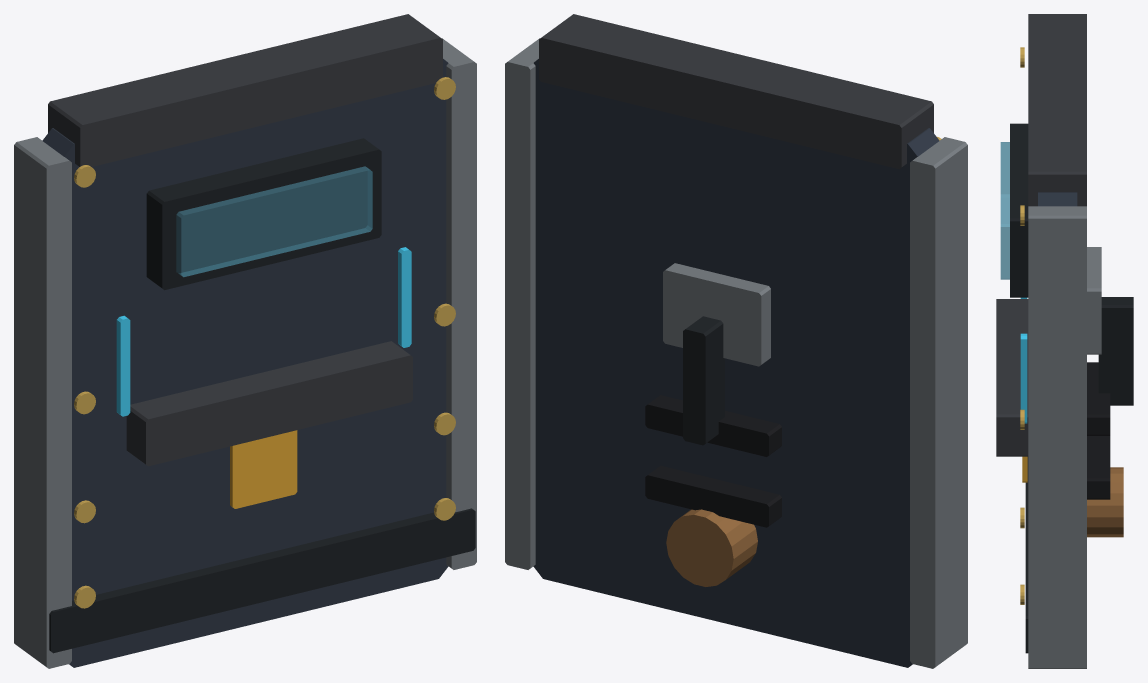
The model's file is 08_Aegis_Shield_Assembled.obj.
The picture shows the model from 3 angles, left to right: view 1: azimuth 30°, elevation 25°; view 2: azimuth 150°, elevation 25°; view 3: azimuth 270°, elevation 25°; orthographic projection. The views are drawn at different scales.
Visible parts, largest first — view 1: 000_Armored_Plate, 002_RimLeft, 004_TopArmor, 005_Viewing_Slit_Frame, 001_Forward_Bumper, 007_Power_Armor_Reinforcement, 003_RimRight, 006_BulletResistant_Viewport, 008_Seal_Insignia, 022_PowerIndicator_-1, 023_PowerIndicator_1; view 2: 000_Armored_Plate, 002_RimLeft, 004_TopArmor, 003_RimRight, 020_Pressure_Lock, 021_Power_Unit, 019_Rear_Handle, 017_Rear_ArmStrap_0.48, 018_Rear_ArmStrap_0.72; view 3: 003_RimRight, 004_TopArmor, 007_Power_Armor_Reinforcement, 019_Rear_Handle, 005_Viewing_Slit_Frame, 021_Power_Unit, 020_Pressure_Lock, 017_Rear_ArmStrap_0.48, 018_Rear_ArmStrap_0.72, 006_BulletResistant_Viewport, 001_Forward_Bumper, 023_PowerIndicator_1 (+1 smaller).
Part boxes in pixels (x1,y1,x2,y2): 000_Armored_Plate: [42, 59, 448, 667]; 002_RimLeft: [14, 137, 71, 668]; 004_TopArmor: [48, 14, 442, 166]; 005_Viewing_Slit_Frame: [146, 138, 381, 290]; 001_Forward_Bumper: [49, 508, 475, 653]; 007_Power_Armor_Reinforcement: [126, 341, 412, 466]; 003_RimRight: [442, 38, 476, 569]; 006_BulletResistant_Viewport: [176, 166, 372, 277]; 008_Seal_Insignia: [230, 430, 297, 508]; 022_PowerIndicator_-1: [116, 315, 130, 416]; 023_PowerIndicator_1: [398, 247, 411, 347]; 000_Armored_Plate: [533, 59, 939, 667]; 002_RimLeft: [910, 137, 967, 668]; 004_TopArmor: [539, 14, 933, 169]; 003_RimRight: [505, 38, 539, 569]; 020_Pressure_Lock: [663, 263, 770, 366]; 021_Power_Unit: [666, 509, 757, 586]; 019_Rear_Handle: [683, 316, 724, 445]; 017_Rear_ArmStrap_0.48: [645, 465, 781, 527]; 018_Rear_ArmStrap_0.72: [645, 395, 781, 456]; 003_RimRight: [1028, 206, 1086, 668]; 004_TopArmor: [1028, 14, 1086, 206]; 007_Power_Armor_Reinforcement: [996, 299, 1028, 456]; 019_Rear_Handle: [1098, 297, 1133, 405]; 005_Viewing_Slit_Frame: [1010, 123, 1028, 297]; 021_Power_Unit: [1087, 467, 1123, 537]; 020_Pressure_Lock: [1087, 247, 1101, 354]; 017_Rear_ArmStrap_0.48: [1087, 436, 1110, 499]; 018_Rear_ArmStrap_0.72: [1087, 362, 1110, 435]; 006_BulletResistant_Viewport: [1000, 142, 1009, 279]; 001_Forward_Bumper: [1025, 457, 1028, 653]; 023_PowerIndicator_1: [1020, 333, 1027, 423].
Bounding box in the file's own units: 1.53 × 1.86 × 0.47.
